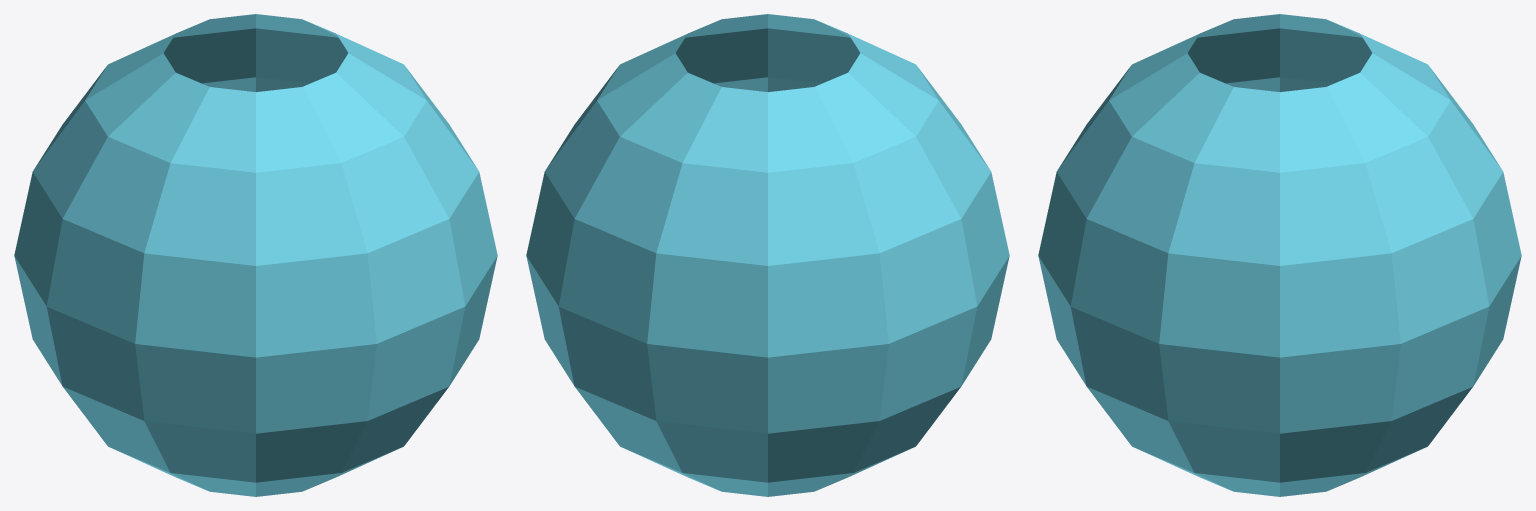
The model's file is 31_shield_bubble.obj.
3 renders of one model, left to right at view 1: azimuth 30°, elevation 25°; view 2: azimuth 150°, elevation 25°; view 3: azimuth 270°, elevation 25°, orthographic.
Parts seen in each view (by area): view 1: part_0; view 2: part_0; view 3: part_0.
Part boxes in pixels (box(x1,y1,x2,y2)): part_0: box(14, 14, 497, 496); part_0: box(526, 14, 1009, 496); part_0: box(1038, 14, 1521, 496).
Size of the model in its own units: 1.7 by 1.64 by 1.7.
